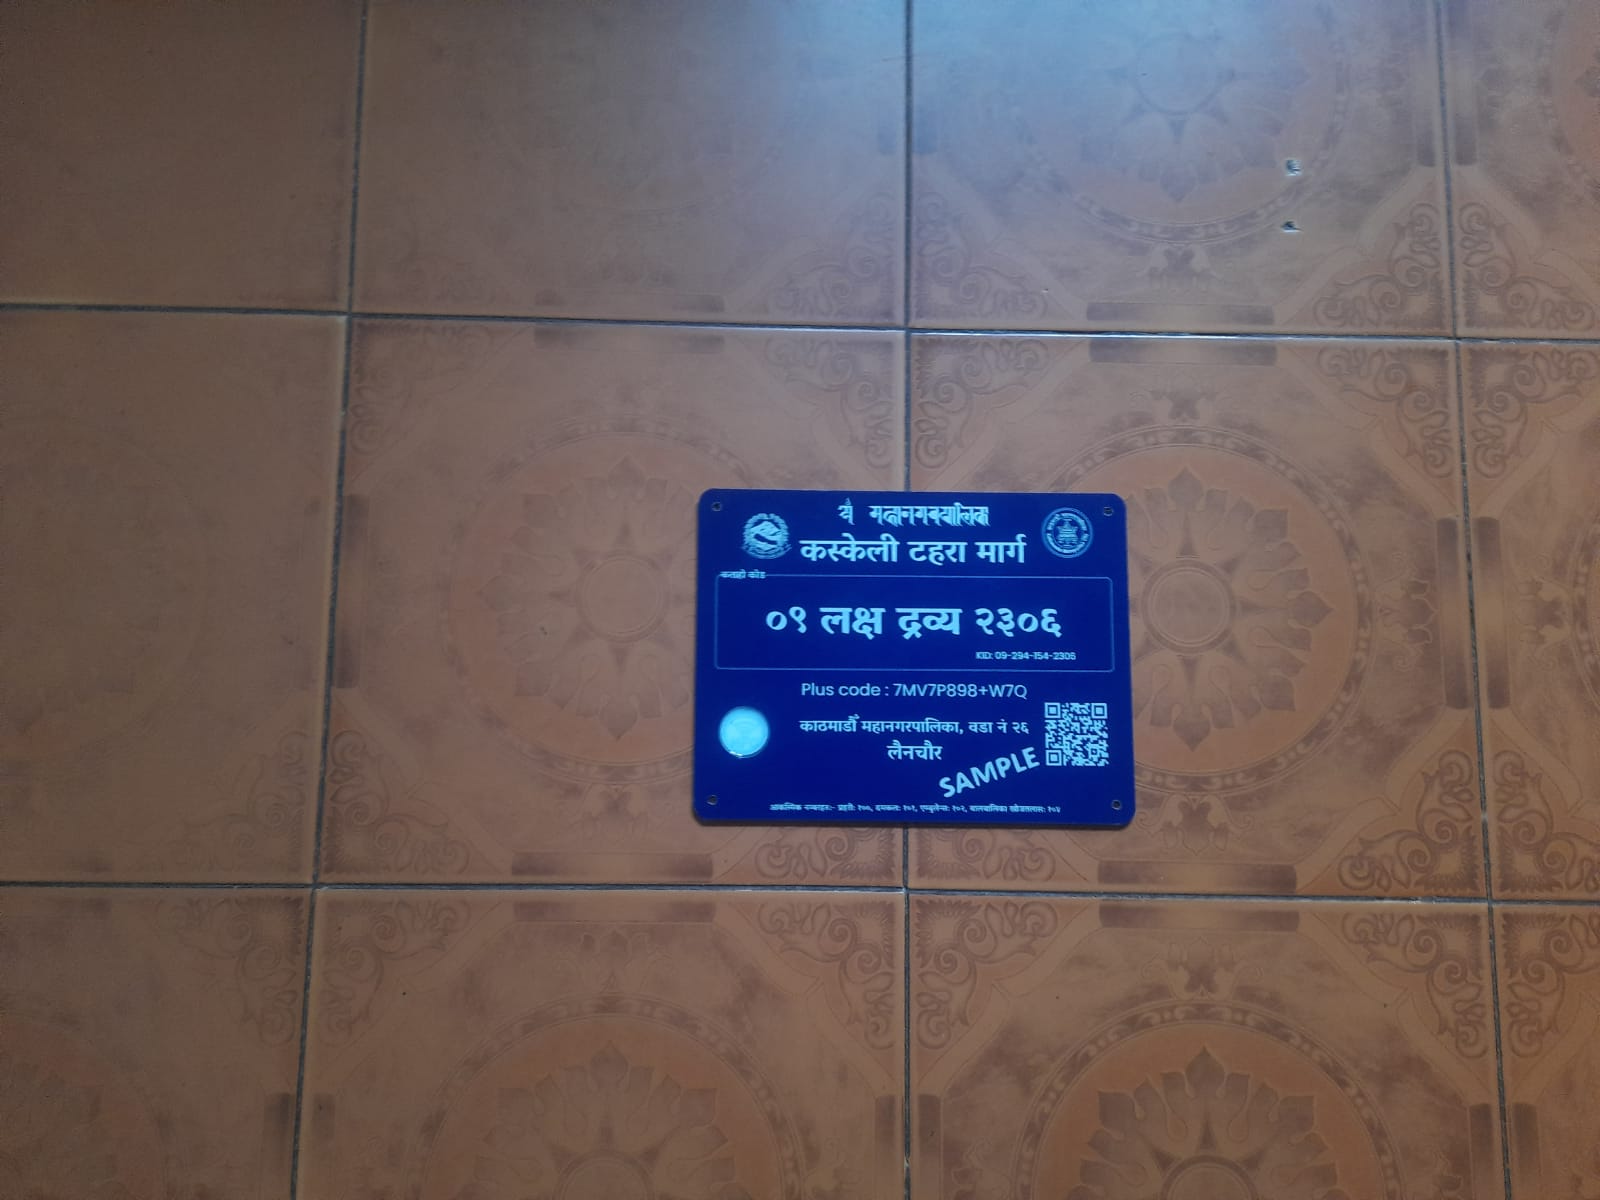Plate: (690, 485, 1142, 838)
